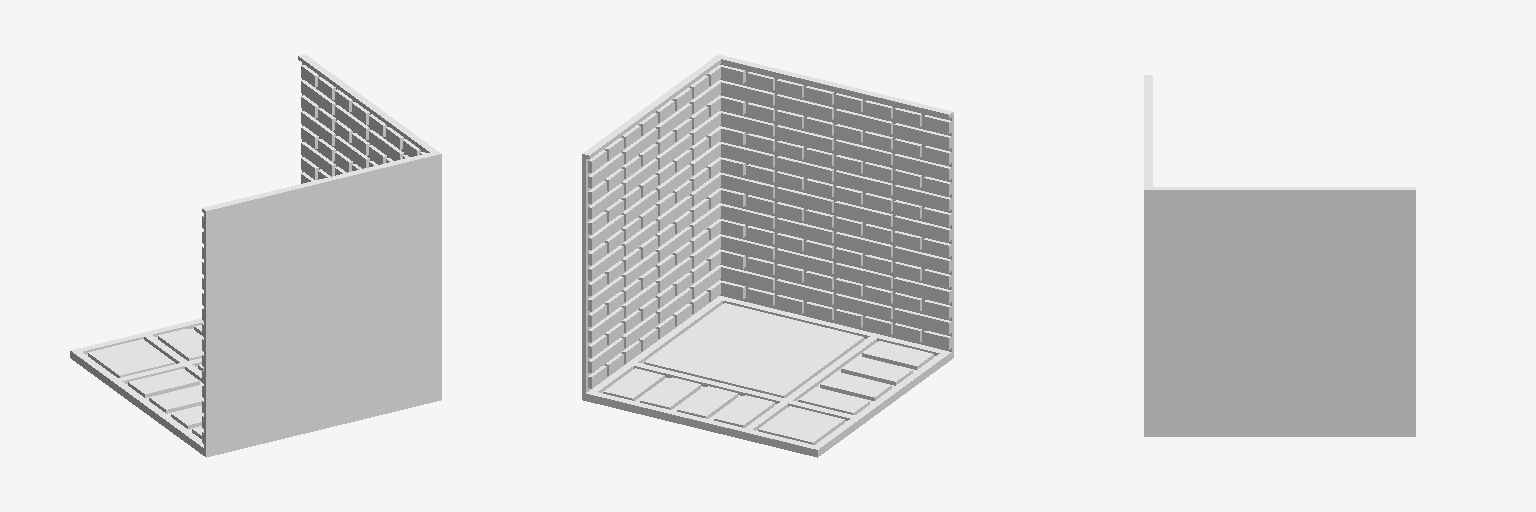
File: corridor_bend_1.obj
3 views of the same model, side by side, from view 1: azimuth 30°, elevation 25°; view 2: azimuth 150°, elevation 25°; view 3: azimuth 270°, elevation 25° (orthographic).
Parts seen in each view (by area): view 1: object 1; view 2: object 1; view 3: object 1.
Part boxes in pixels (left/top/right/bottom): object 1: left=70, top=54, right=441, bottom=457; object 1: left=582, top=54, right=953, bottom=457; object 1: left=1144, top=75, right=1415, bottom=436.
Bounding box in the file's own units: 6.4 × 6.4 × 6.4.